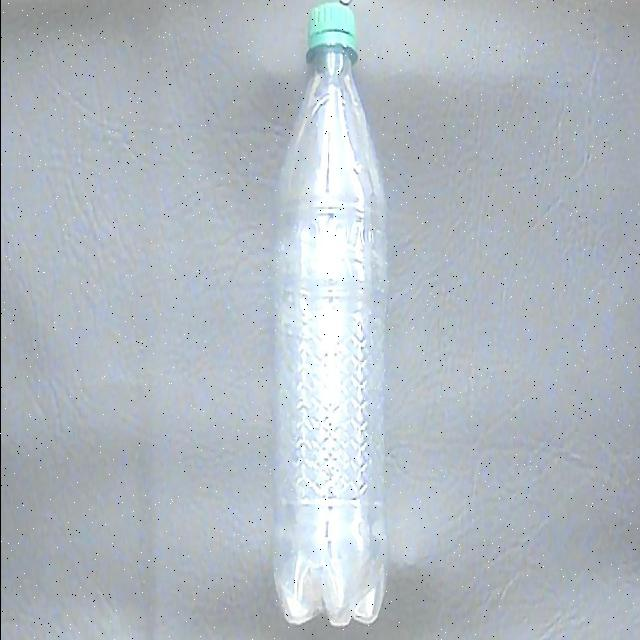plastic: (266, 4, 390, 632)
